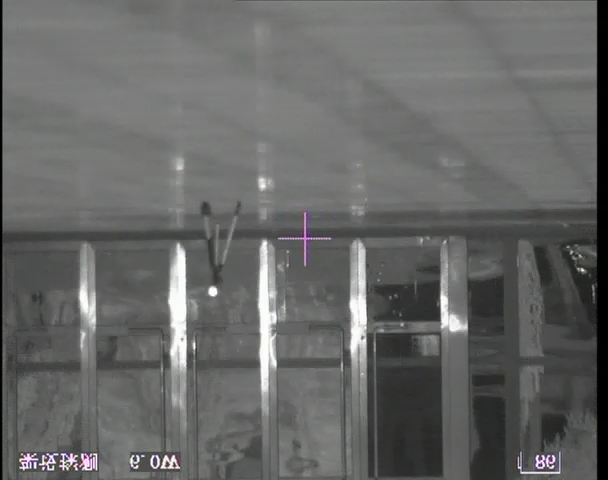my: (207, 285, 218, 297)
